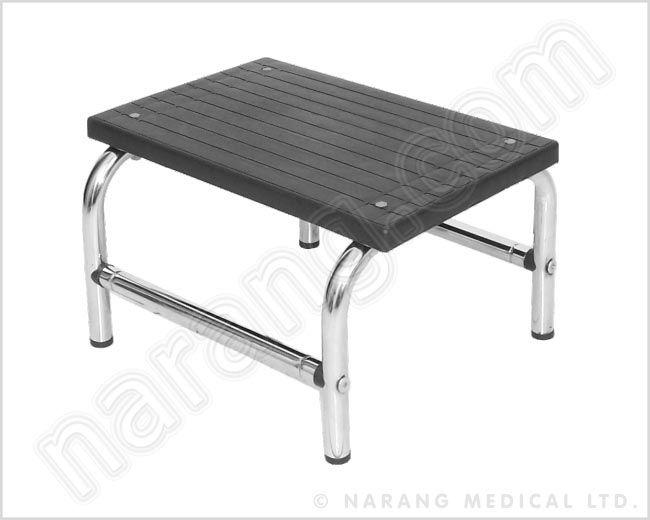stool: (64, 40, 587, 471)
